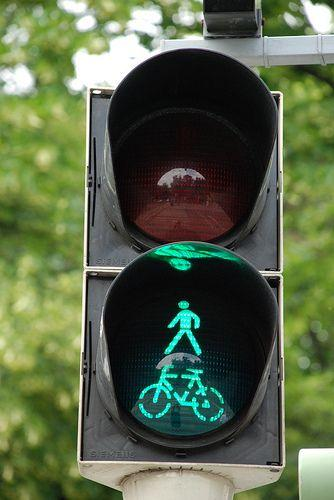Traffic light green: (69, 76, 290, 480)
